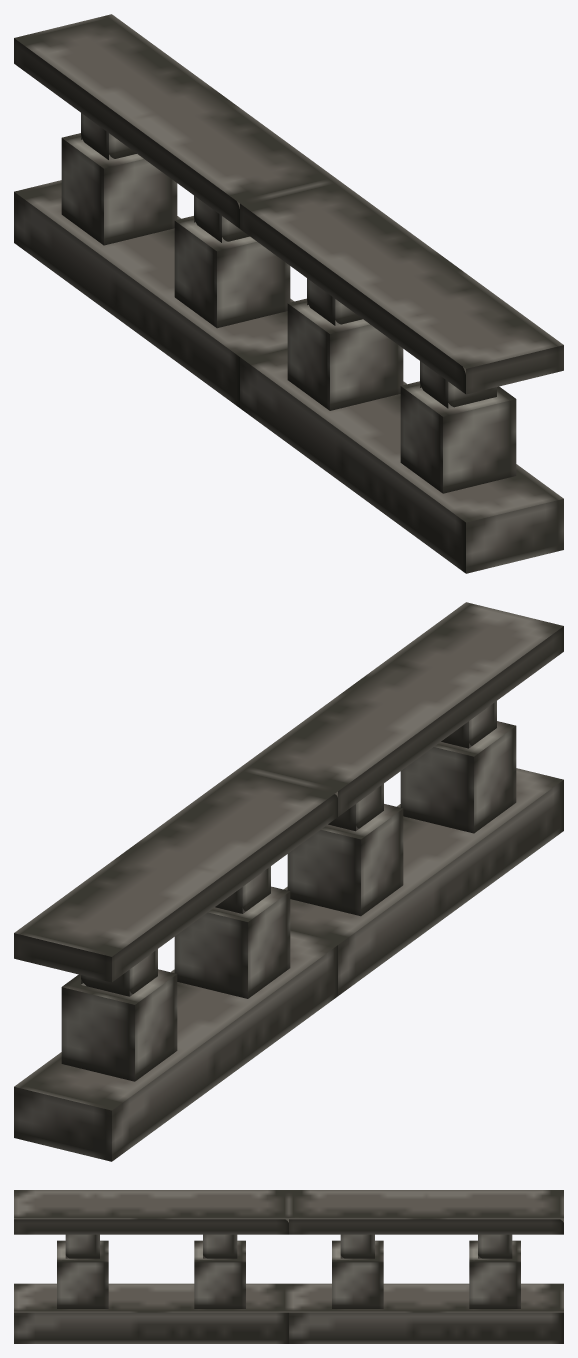
The model's file is Railing_x2.fbx.
3 views of the same model, one above another, from view 1: azimuth 30°, elevation 25°; view 2: azimuth 150°, elevation 25°; view 3: azimuth 270°, elevation 25° (orthographic). The views are drawn at different scales.
Parts seen in each view (by area): view 1: Railing_x2; view 2: Railing_x2; view 3: Railing_x2.
Part boxes in pixels (left/top/right/bottom): Railing_x2: left=14, top=14, right=563, bottom=573; Railing_x2: left=14, top=602, right=563, bottom=1161; Railing_x2: left=14, top=1190, right=563, bottom=1343.
Bounding box in the file's own units: 50 × 100 × 400.
Materials: 1 (1 with a texture image).
